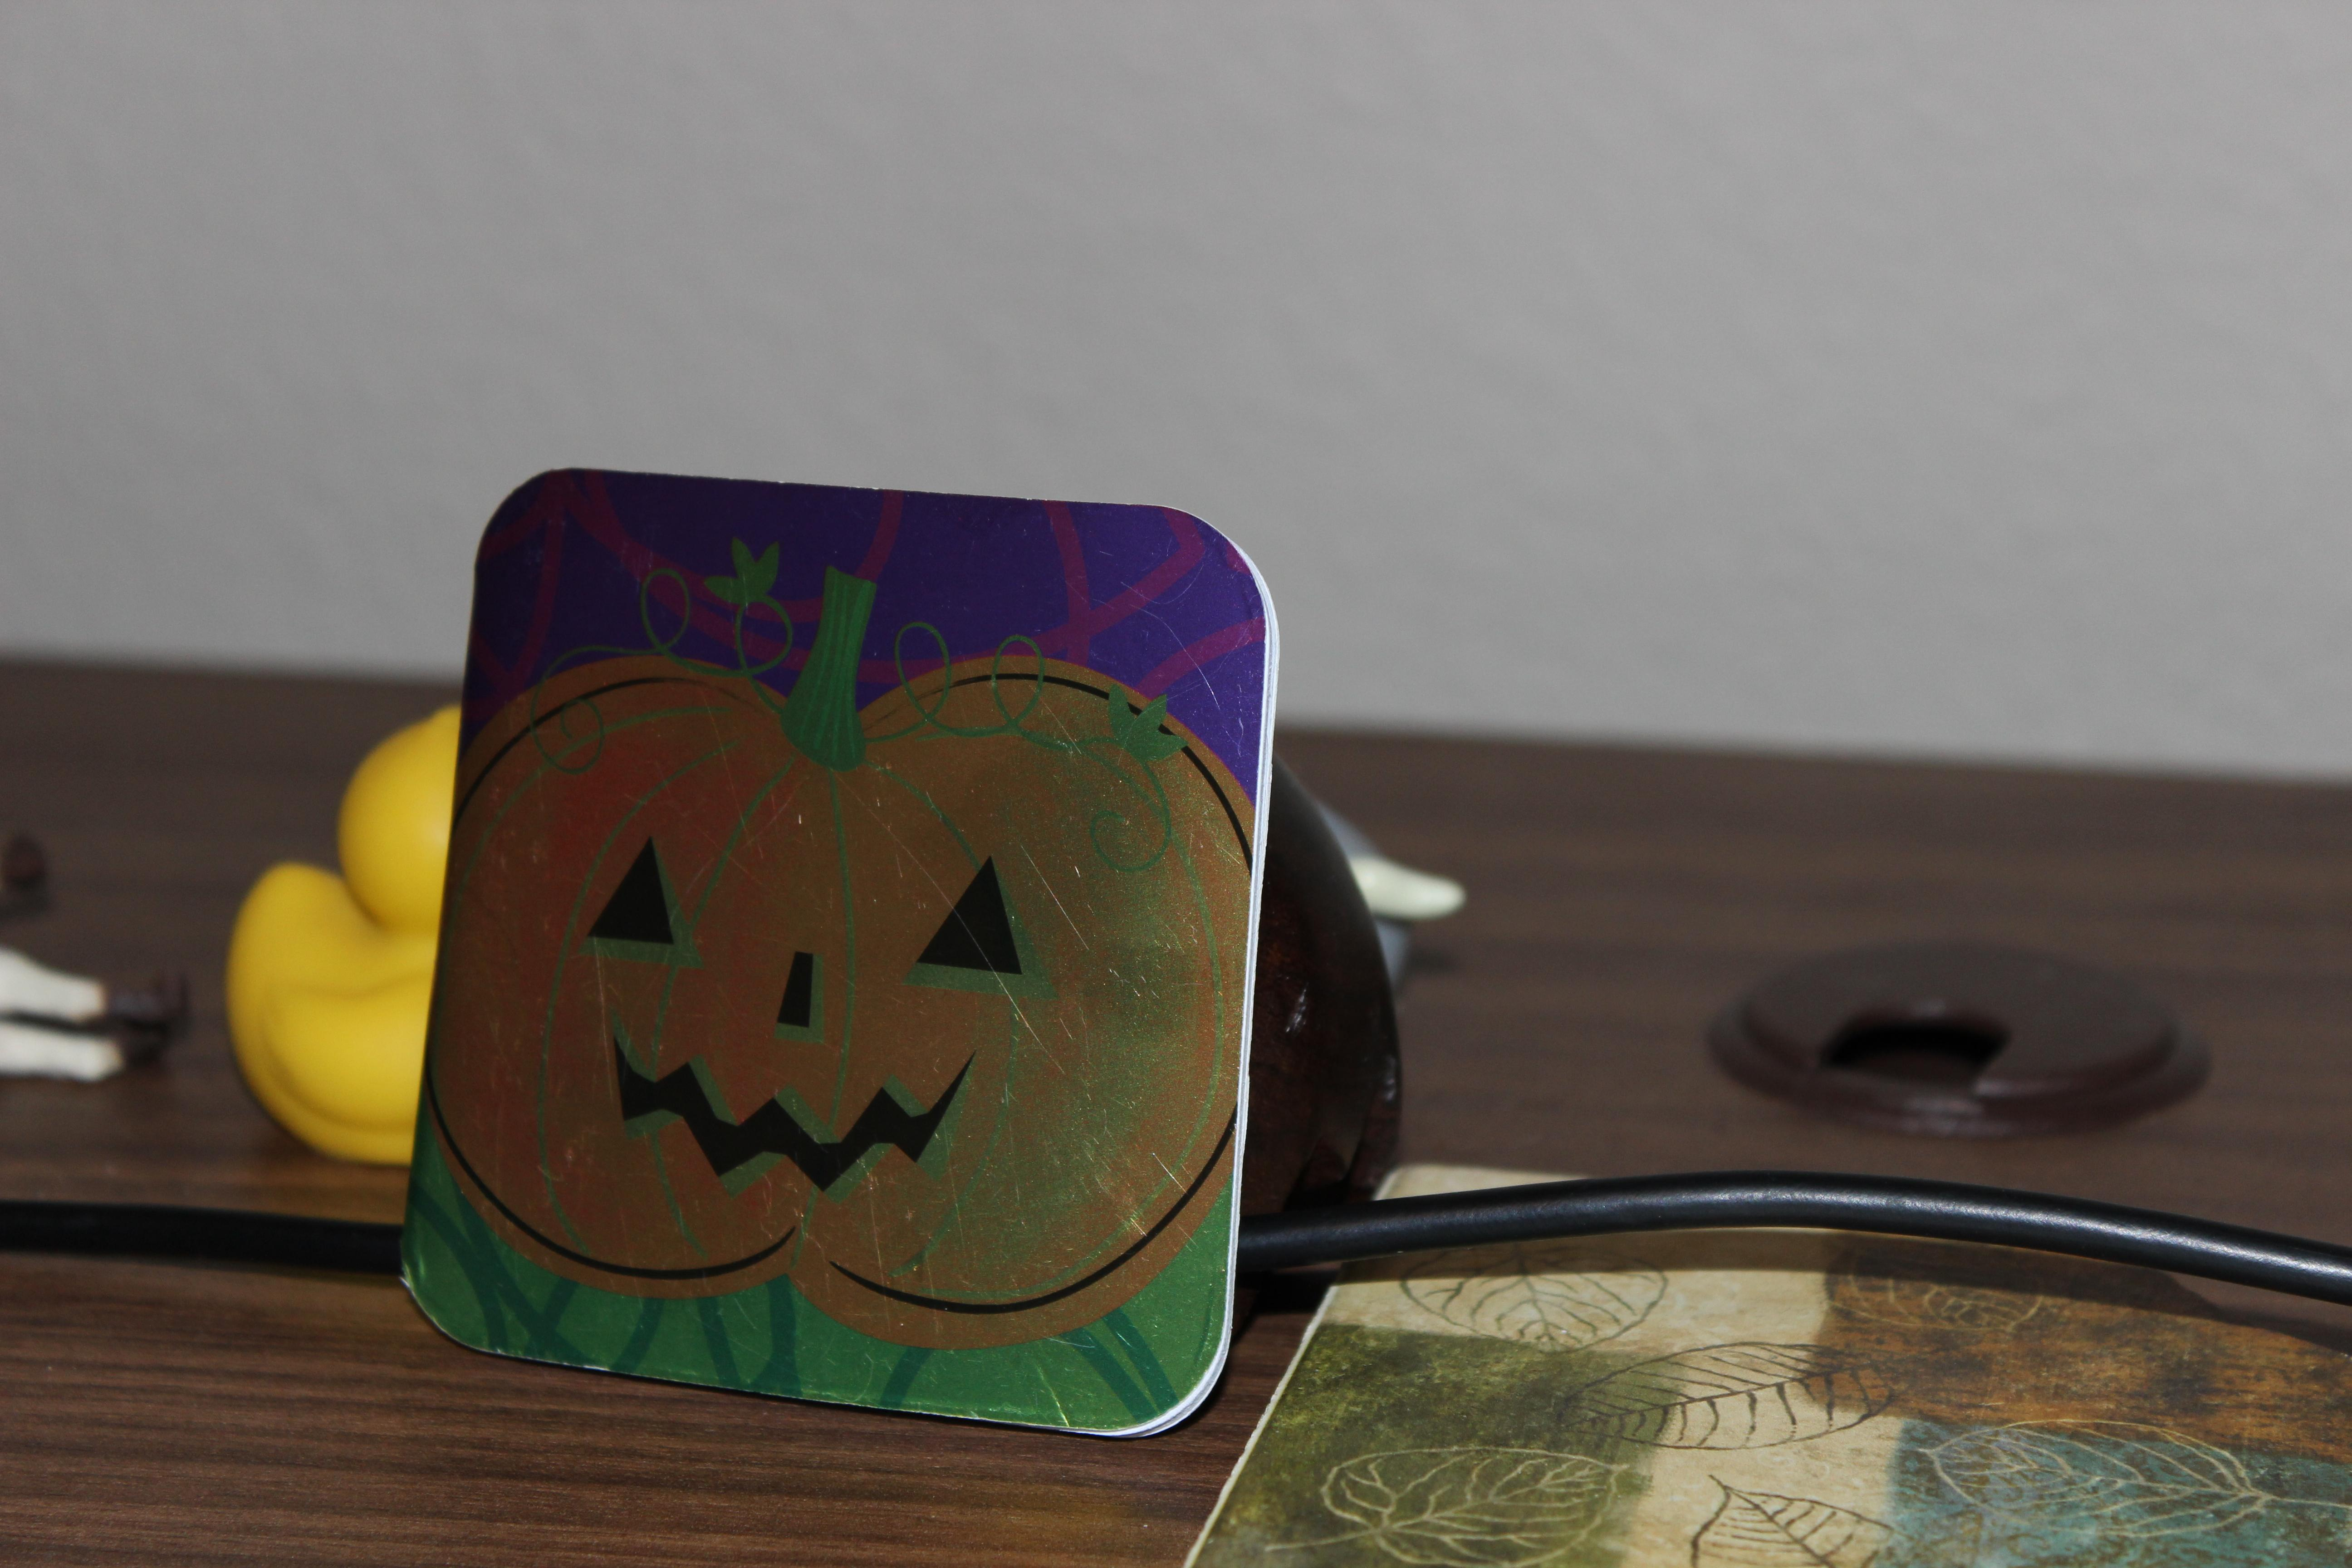pumpkinNotes: (366, 415, 1313, 1463)
